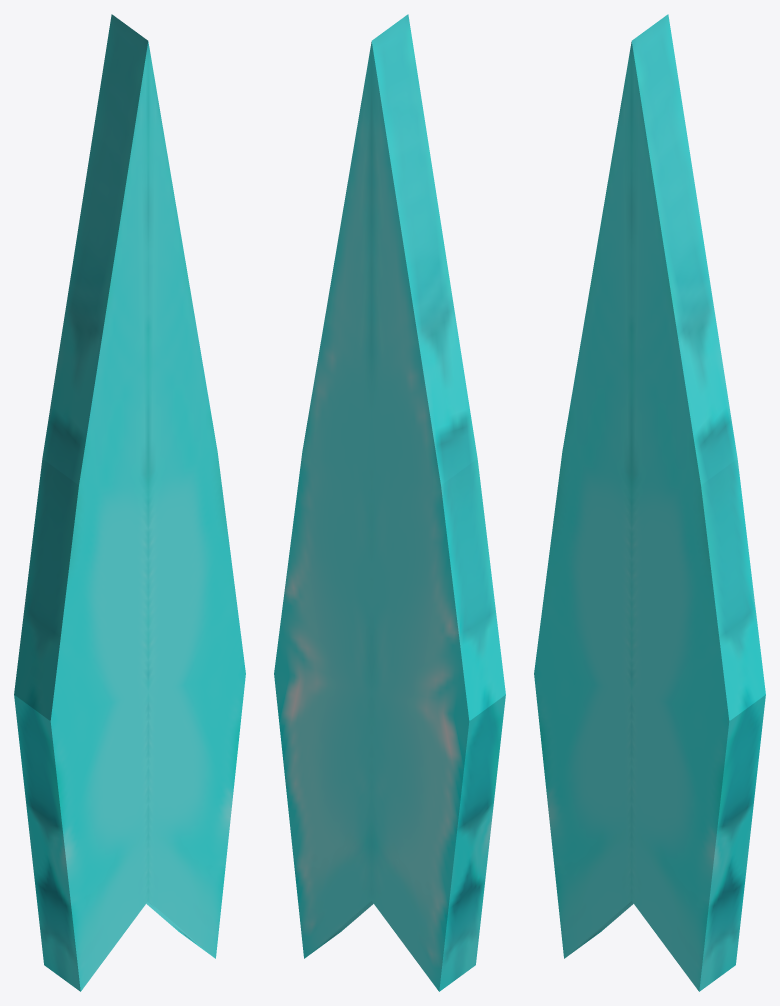
File: Ice_Spike.fbx
The picture shows the model from 3 angles, left to right: view 1: azimuth 30°, elevation 25°; view 2: azimuth 150°, elevation 25°; view 3: azimuth 330°, elevation 25°; orthographic projection.
Visible parts, largest first — view 1: Ice_spike_0_mesh; view 2: Ice_spike_0_mesh; view 3: Ice_spike_0_mesh.
Boxes of the visible parts, x1,y1,x2,y2 form: Ice_spike_0_mesh: [14, 14, 245, 991]; Ice_spike_0_mesh: [274, 14, 505, 991]; Ice_spike_0_mesh: [534, 14, 765, 991].
Bounding box in the file's own units: 2.98 × 13.61 × 0.9669.
